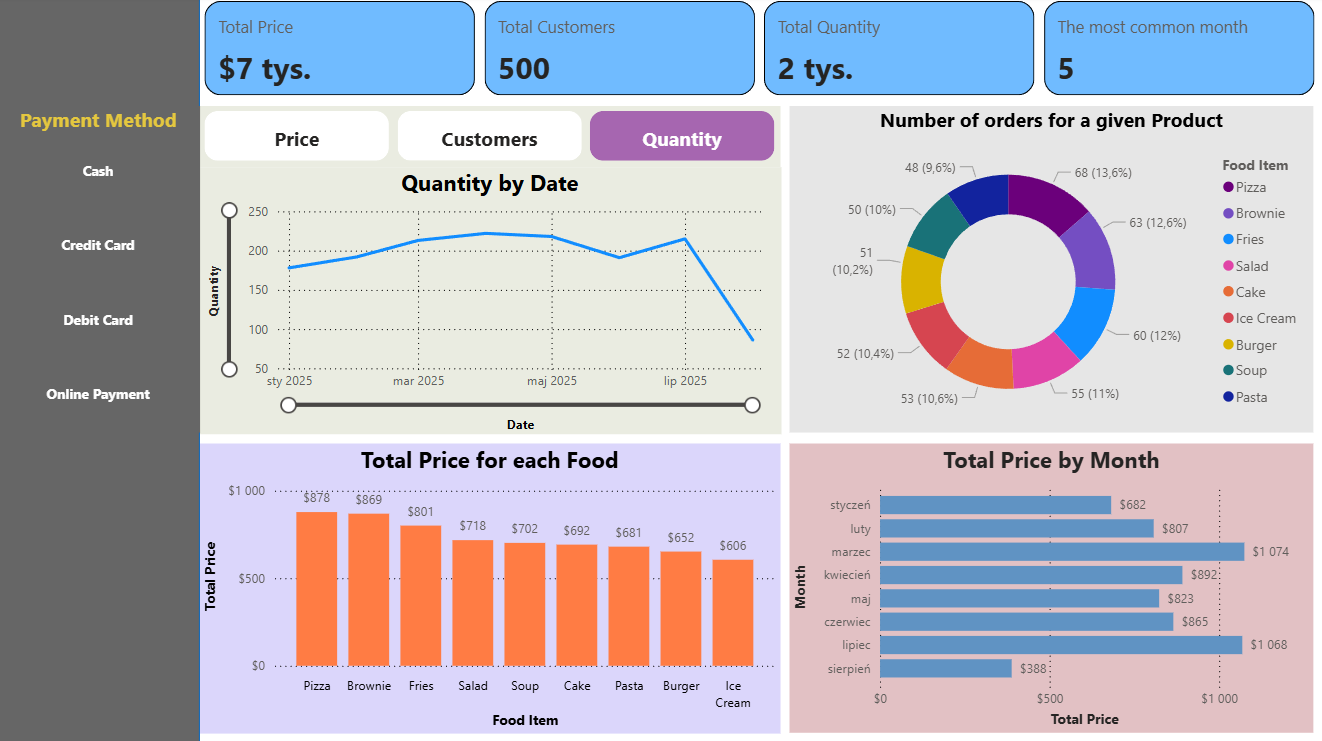

The page's visual inventory and layout, read from the dashboard file:
{"tool":"powerbi","page":{"name":"Strona 1","canvas":[1280,720],"ordinal":0},"visuals":[{"type":"cardVisual","fields":{"Data":["_Measures.Total Price","_Measures.Total Customers","_Measures.Total Quantity","_Measures.The most common month"]},"box":[195.3,0,1084.7,101.2],"z":0},{"type":"lineChart","fields":{"Y":["_Measures.Total Quantity"],"Category":["restaurant_orders.Date.Odmiana.Hierarchia dat.Rok","restaurant_orders.Date.Odmiana.Hierarchia dat.Miesiąc"]},"box":[195.8,165.1,560.6,257.3],"z":1000},{"type":"advancedSlicerVisual","fields":{"Values":["Parametr.Parametr"]},"box":[195.8,106.2,560.6,58.9],"z":2000},{"type":"columnChart","title":"Total Price for each Food","fields":{"Y":["_Measures.Total Price"],"Category":["restaurant_orders.Food Item"]},"box":[195.8,431.4,560.6,280.3],"z":3000},{"type":"donutChart","title":"Number of orders for a given Product","fields":{"Y":["CountNonNull(restaurant_orders.Food Item)"],"Category":["restaurant_orders.Food Item"]},"box":[765.4,106.2,505.6,314.9],"z":4000},{"type":"shape","box":[0,0,195.8,720.6],"z":5000},{"type":"advancedSlicerVisual","fields":{"Values":["restaurant_orders.Payment Method"]},"box":[0,106.2,195.8,314.9],"z":6000},{"type":"barChart","title":"Total Price by Month","fields":{"Category":["restaurant_orders.Date.Odmiana.Hierarchia dat.Miesiąc"],"Y":["_Measures.Total Price"]},"box":[765.4,431.4,505.6,279],"z":7000}]}

Visuals, with their boxes in screenshot pixels (x1, y1, x2, y2), scaled from the page's 1280x720 canvas onto the 1322x741 screenshot:
cardVisual - _Measures.Total Price x _Measures.Total Customers: <bbox>202, 0, 1321, 104</bbox>
lineChart - _Measures.Total Quantity x restaurant_orders.Date.Odmiana.Hierarchia dat.Rok: <bbox>202, 170, 781, 435</bbox>
advancedSlicerVisual - Parametr.Parametr: <bbox>202, 109, 781, 170</bbox>
"Total Price for each Food" columnChart: <bbox>202, 444, 781, 732</bbox>
"Number of orders for a given Product" donutChart: <bbox>791, 109, 1313, 433</bbox>
shape: <bbox>0, 0, 202, 740</bbox>
advancedSlicerVisual - restaurant_orders.Payment Method: <bbox>0, 109, 202, 433</bbox>
"Total Price by Month" barChart: <bbox>791, 444, 1313, 731</bbox>
